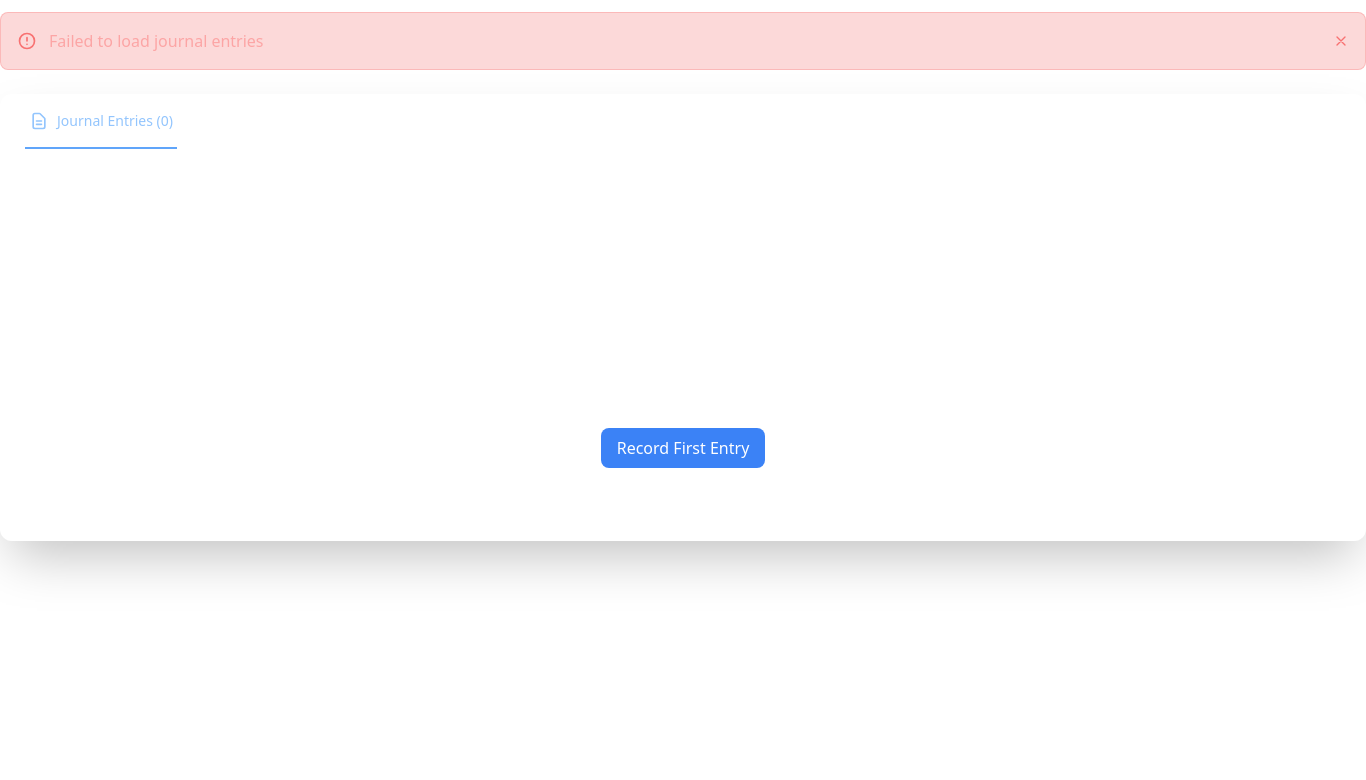
Test: JournalView › dismisses error message when close button is clicked
expect the text "Failed to load journal entries" is shown: met, box [49, 30, 264, 52]
// Find the close button by its class name, as it doesn't have an accessible name
Step 1. Click the 1st button → (1341, 41), box [1333, 33, 1349, 49]
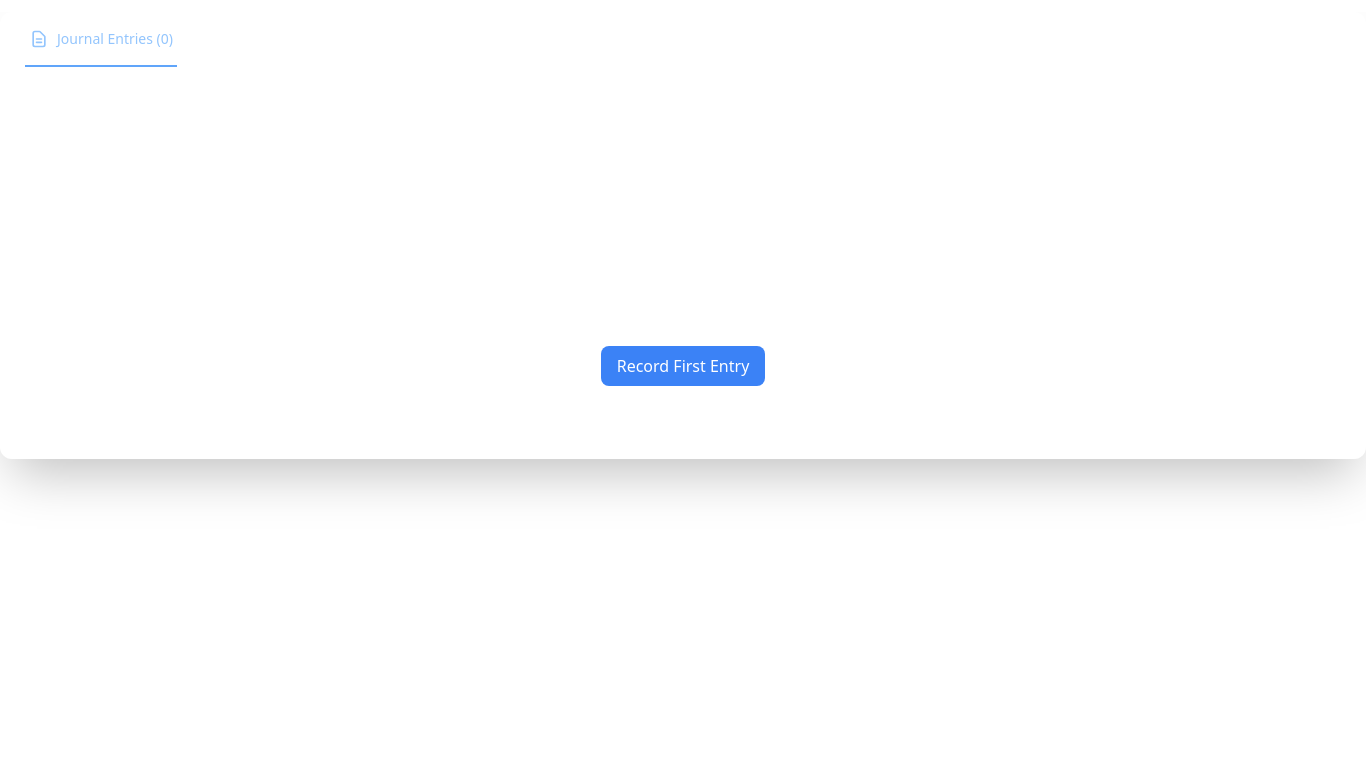
expect the text "Failed to load journal entries" is gone: met
